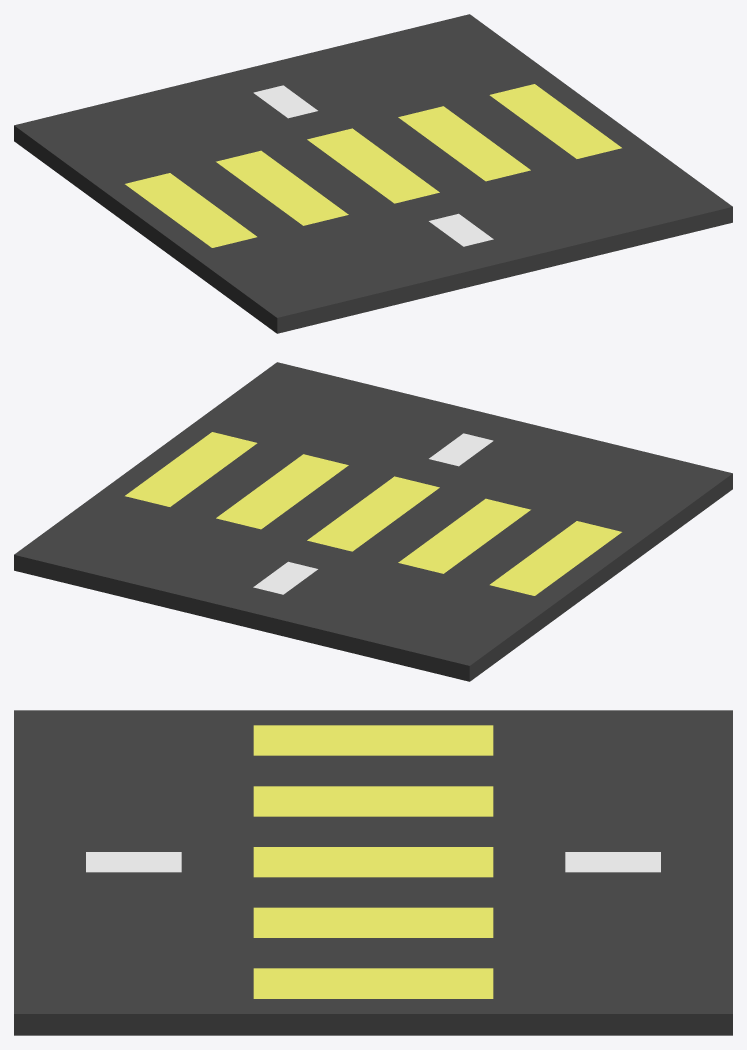
The model's file is street_crossing.fbx.
The picture shows the model from 3 angles, top to bottom: view 1: azimuth 30°, elevation 25°; view 2: azimuth 150°, elevation 25°; view 3: azimuth 270°, elevation 25°; orthographic projection. The views are drawn at different scales.
Parts seen in each view (by area): view 1: block_default_192, block_default_193, block_default_164, block_default_158, block_default_188, block_default_187, block_default_190, block_default_198, block_default_191, block_default_196, block_default_197, block_default_189 (+11 smaller); view 2: block_default_164, block_default_158, block_default_192, block_default_193, block_default_188, block_default_187, block_default_190, block_default_198, block_default_191, block_default_196, block_default_197, block_default_189 (+11 smaller); view 3: block_default_158, block_default_193, block_default_164, block_default_192, block_default_199, block_default_188, block_default_189, block_default_191, block_default_196, block_default_187, block_default_190, block_default_197 (+11 smaller).
Boxes of the visible parts, box(x1,y1,x2,y2) form: block_default_192: box(189, 202, 489, 333); block_default_193: box(433, 142, 732, 274); block_default_164: box(14, 73, 313, 204); block_default_158: box(257, 14, 556, 129); block_default_188: box(216, 150, 348, 225); block_default_187: box(307, 128, 439, 203); block_default_190: box(398, 106, 530, 181); block_default_198: box(261, 139, 393, 214); block_default_191: box(489, 84, 621, 158); block_default_196: box(353, 117, 485, 192); block_default_197: box(444, 95, 576, 170); block_default_189: box(125, 173, 256, 247); block_default_164: box(257, 550, 557, 681); block_default_158: box(14, 490, 313, 622); block_default_192: box(433, 421, 732, 552); block_default_193: box(190, 362, 489, 477); block_default_188: box(398, 498, 530, 573); block_default_187: box(307, 476, 439, 551); block_default_190: box(216, 454, 348, 529); block_default_198: box(353, 487, 485, 562); block_default_191: box(125, 432, 257, 506); block_default_196: box(261, 465, 393, 540); block_default_197: box(170, 443, 302, 518); block_default_189: box(490, 521, 621, 595); block_default_158: box(493, 872, 732, 1035); block_default_193: box(14, 872, 253, 1035); block_default_164: box(493, 710, 732, 851); block_default_192: box(14, 710, 253, 851); block_default_199: box(253, 755, 493, 786); block_default_188: box(253, 786, 493, 816); block_default_189: box(253, 725, 493, 755); block_default_191: box(253, 968, 493, 998); block_default_196: box(253, 877, 493, 907); block_default_187: box(253, 847, 493, 877); block_default_190: box(253, 907, 493, 937); block_default_197: box(253, 938, 493, 968).
Bounding box in the file's own units: 30 × 1 × 30.
